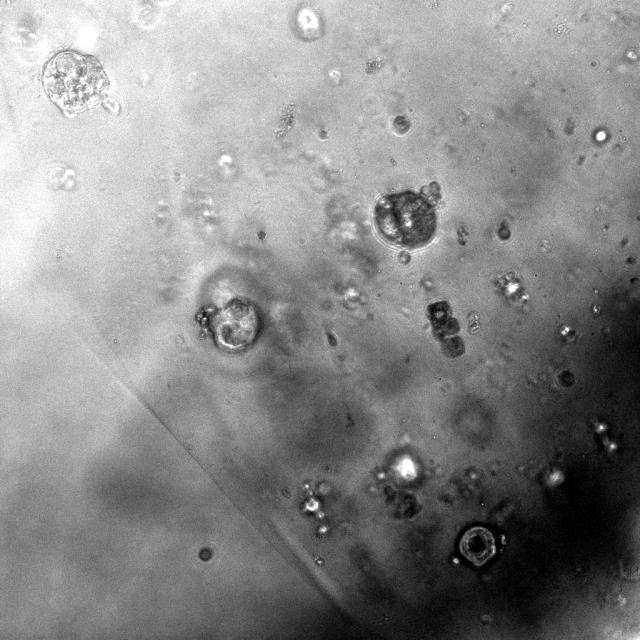organoid: (371, 181, 442, 264), (41, 49, 120, 118), (195, 297, 262, 353), (451, 522, 506, 570), (427, 301, 464, 357), (274, 102, 295, 137), (389, 114, 411, 137), (496, 220, 511, 240), (558, 369, 574, 387), (198, 547, 212, 562), (258, 230, 266, 240)
